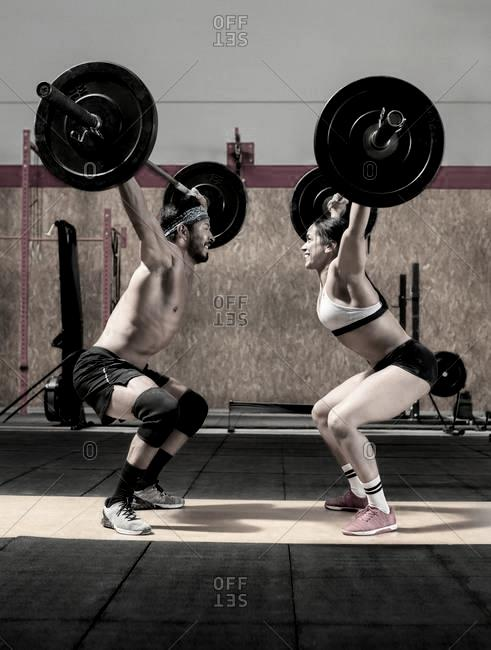Barbell: (35, 75, 59, 103), (383, 108, 410, 130)
